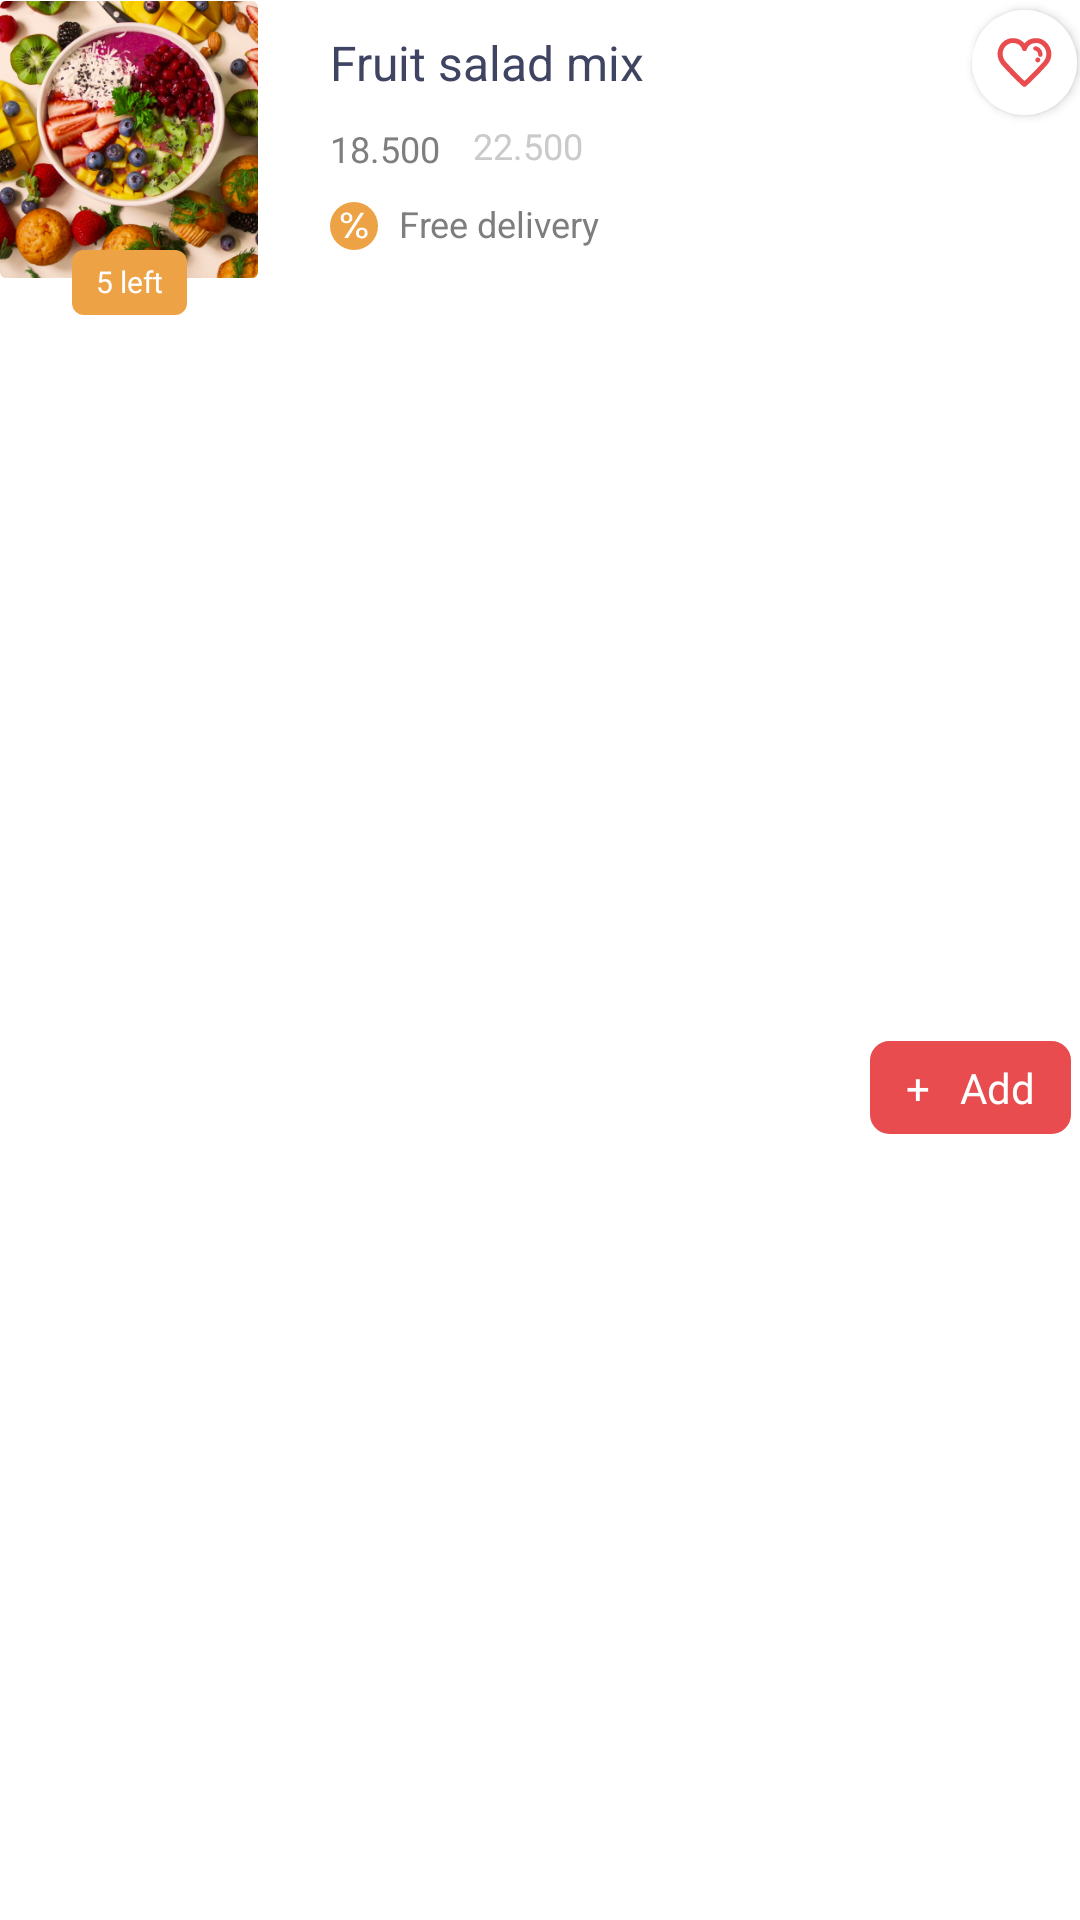

Point at icon controls on the screen. Image size 1080 × 1920, points as (x=x, y=y).
heart favourite like: (x=1037, y=62)
